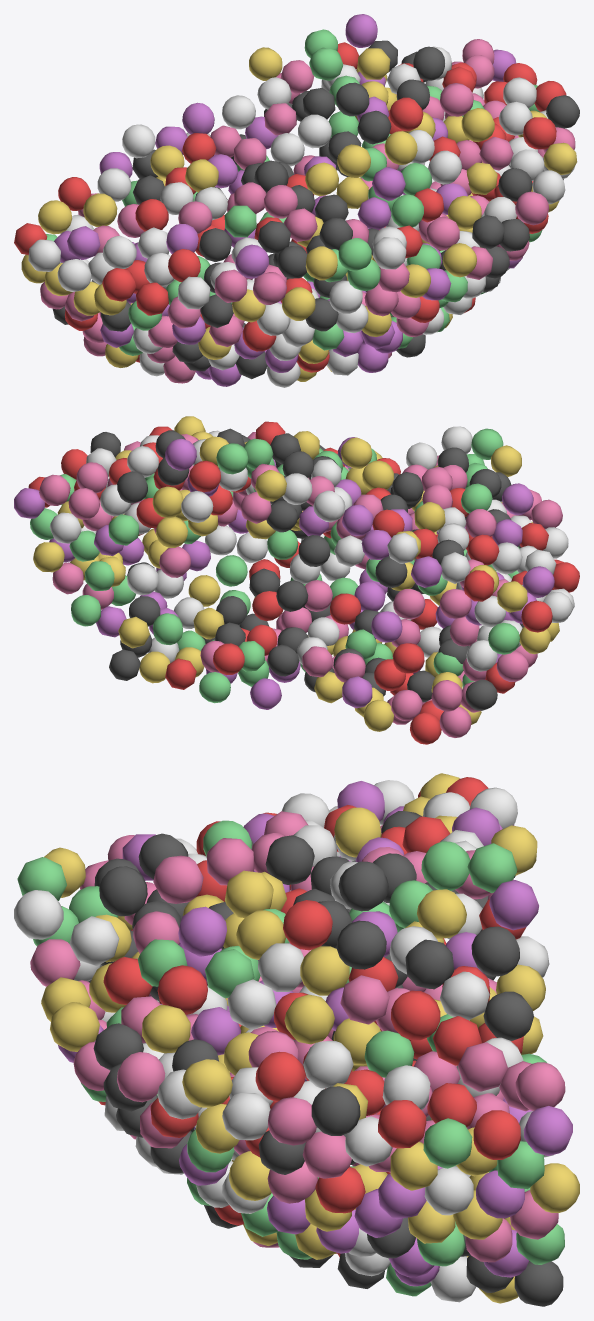
The model's file is gumball_machine2.fbx.
The picture shows the model from 3 angles, top to bottom: view 1: azimuth 30°, elevation 25°; view 2: azimuth 150°, elevation 25°; view 3: azimuth 270°, elevation 25°; orthographic projection. The views are drawn at different scales.
Parts seen in each view (by area): view 1: polySurface2028; view 2: polySurface2028; view 3: polySurface2028.
Boxes of the visible parts, x1=… form: polySurface2028: x1=14, y1=14, x2=579, y2=387; polySurface2028: x1=14, y1=416, x2=579, y2=744; polySurface2028: x1=14, y1=773, x2=579, y2=1306.
Size of the model in its own units: 32.69 by 16.16 by 20.1.
